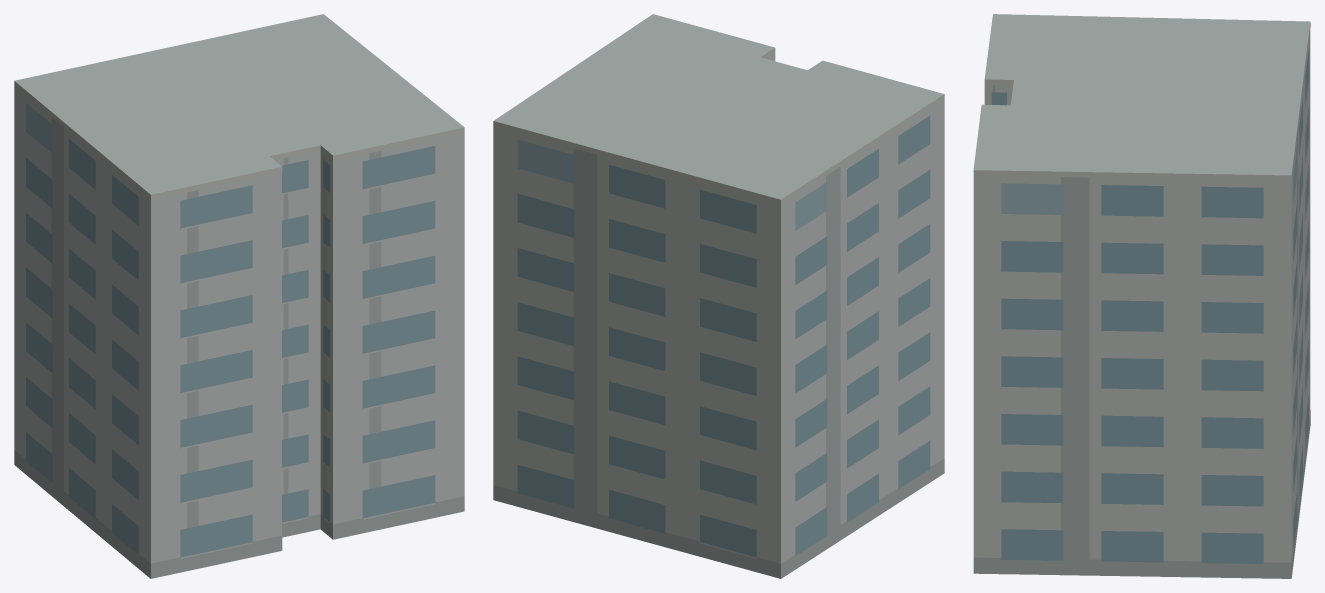
Rendered from survey-upis-32666625.glb.
3 views of the same model, side by side, from view 1: azimuth 30°, elevation 25°; view 2: azimuth 150°, elevation 25°; view 3: azimuth 270°, elevation 25° (orthographic). The views are drawn at different scales.
Visible parts, largest first — view 1: survey-upis-32666625.tmp; view 2: survey-upis-32666625.tmp; view 3: survey-upis-32666625.tmp.
Boxes of the visible parts, x1,y1,x2,y2 form: survey-upis-32666625.tmp: (14,14,464,578); survey-upis-32666625.tmp: (493,14,944,578); survey-upis-32666625.tmp: (973,14,1310,578).
Size of the model in its own units: 15.37 by 17.9 by 13.56.
